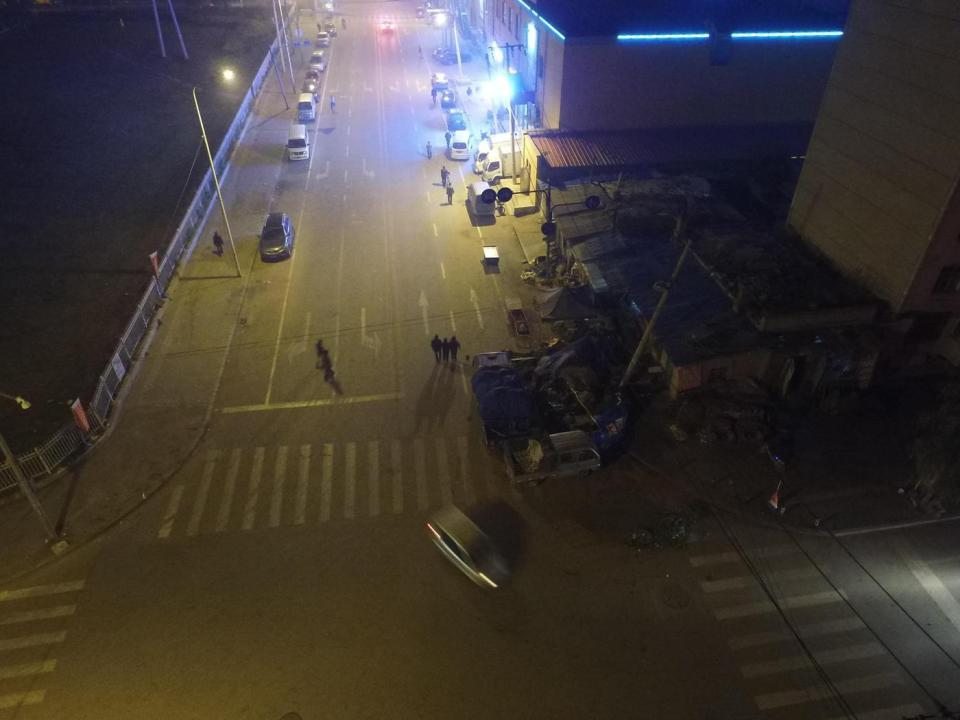car: (440, 51, 471, 66), (300, 79, 320, 102), (440, 90, 458, 107), (303, 70, 320, 88), (432, 48, 457, 60), (432, 73, 448, 89), (316, 32, 329, 47), (324, 22, 337, 36), (380, 20, 394, 33)
truck: (466, 352, 543, 454), (504, 430, 601, 487), (473, 130, 552, 172), (482, 144, 542, 184)
van: (427, 503, 509, 588), (258, 214, 293, 260), (466, 182, 495, 216), (287, 124, 310, 159), (450, 130, 472, 160), (296, 92, 316, 121), (446, 108, 466, 130), (308, 50, 326, 73), (427, 9, 456, 23)
